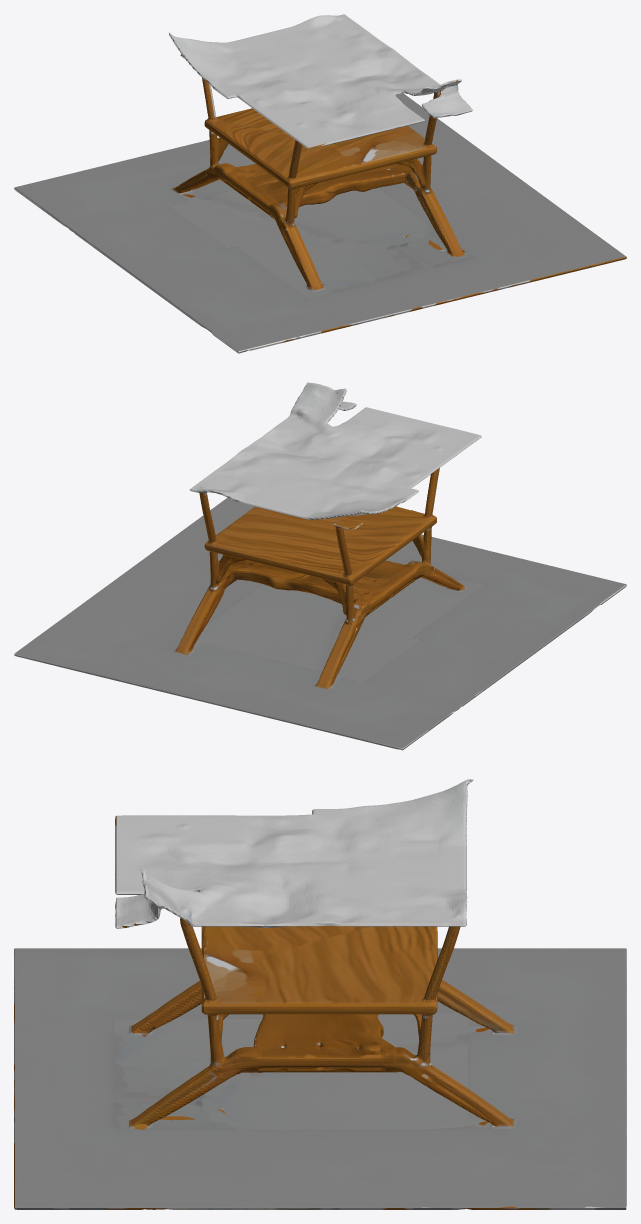
Rendered from stall.glb.
3 renders of one model, top to bottom at view 1: azimuth 30°, elevation 25°; view 2: azimuth 150°, elevation 25°; view 3: azimuth 270°, elevation 25°, orthographic. The views are drawn at different scales.
Parts seen in each view (by area): view 1: textured_mesh.obj; view 2: textured_mesh.obj; view 3: textured_mesh.obj.
Part boxes in pixels (bbox=[...]): textured_mesh.obj: bbox=[14, 14, 626, 353]; textured_mesh.obj: bbox=[14, 382, 626, 750]; textured_mesh.obj: bbox=[14, 779, 626, 1209].
Size of the model in its own units: 1.99 by 0.8541 by 1.99.
Materials: 1 (1 with a texture image).
